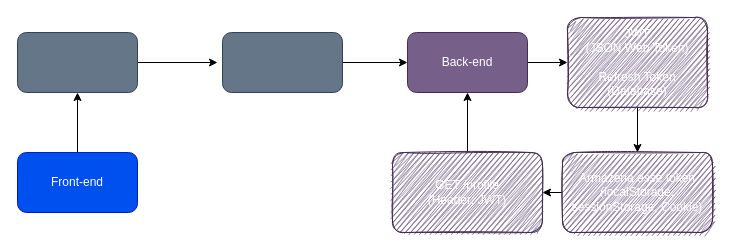
Image size: 730x250. Some labels were removed from this diagram. Here are the shapes that lost their labels. From the top down, the box of each, then its label:
(16, 32, 138, 92): Sign in
(222, 32, 342, 92): POST /sessions (email, password)
